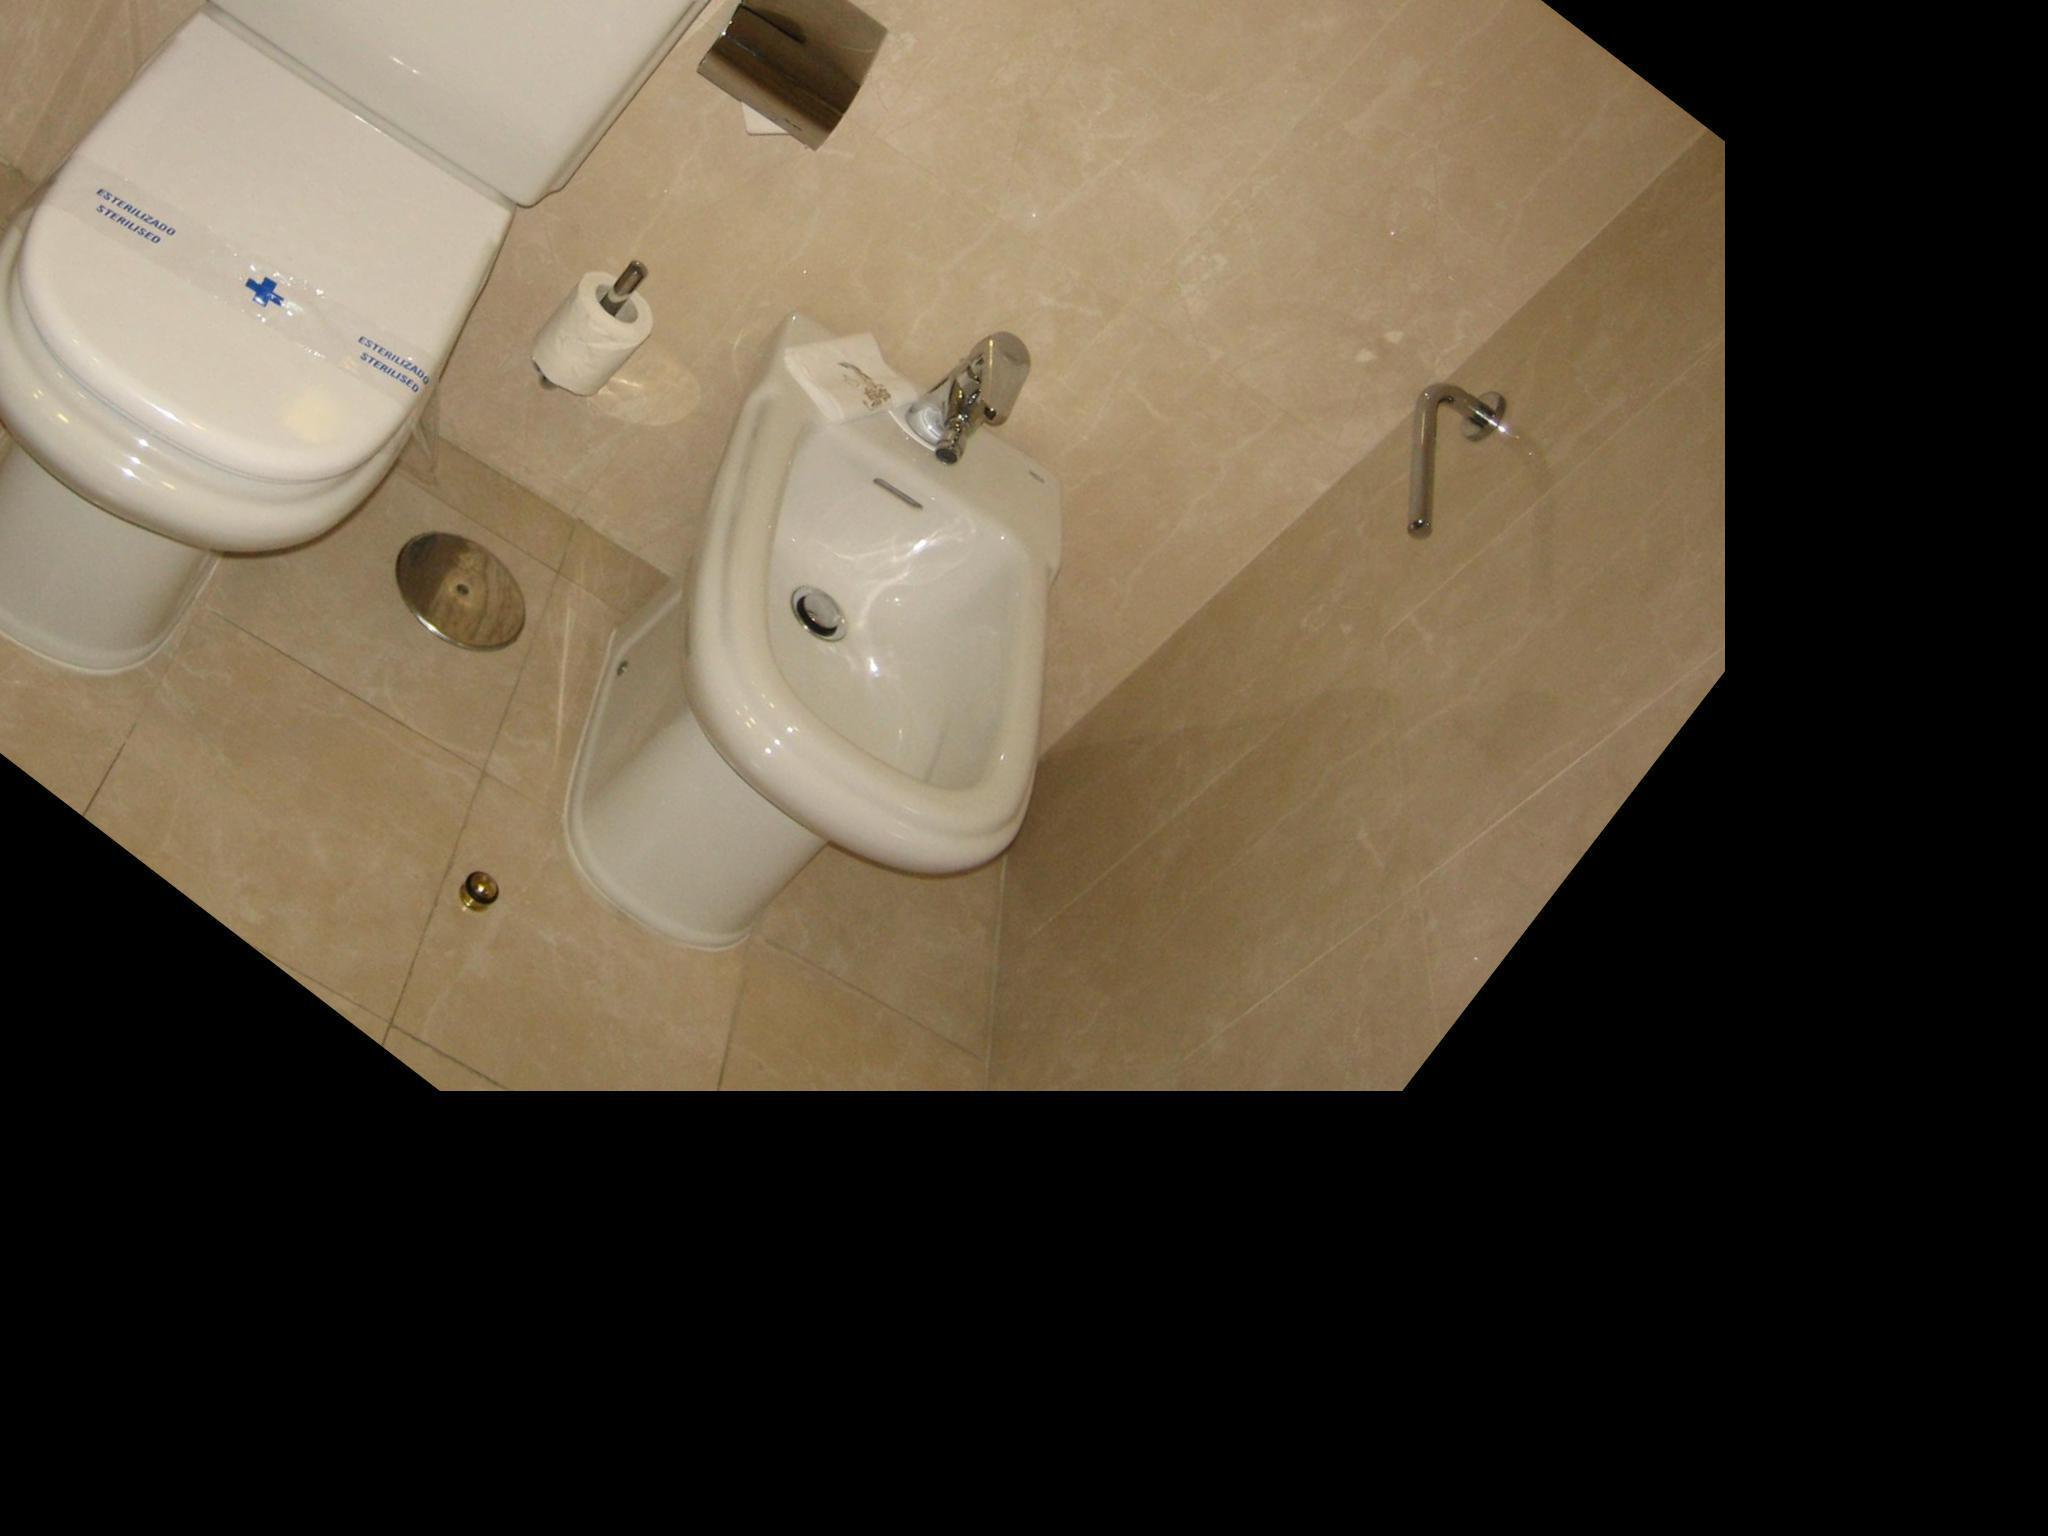Sanitario: (416, 211, 1277, 1110), (0, 0, 868, 807)
